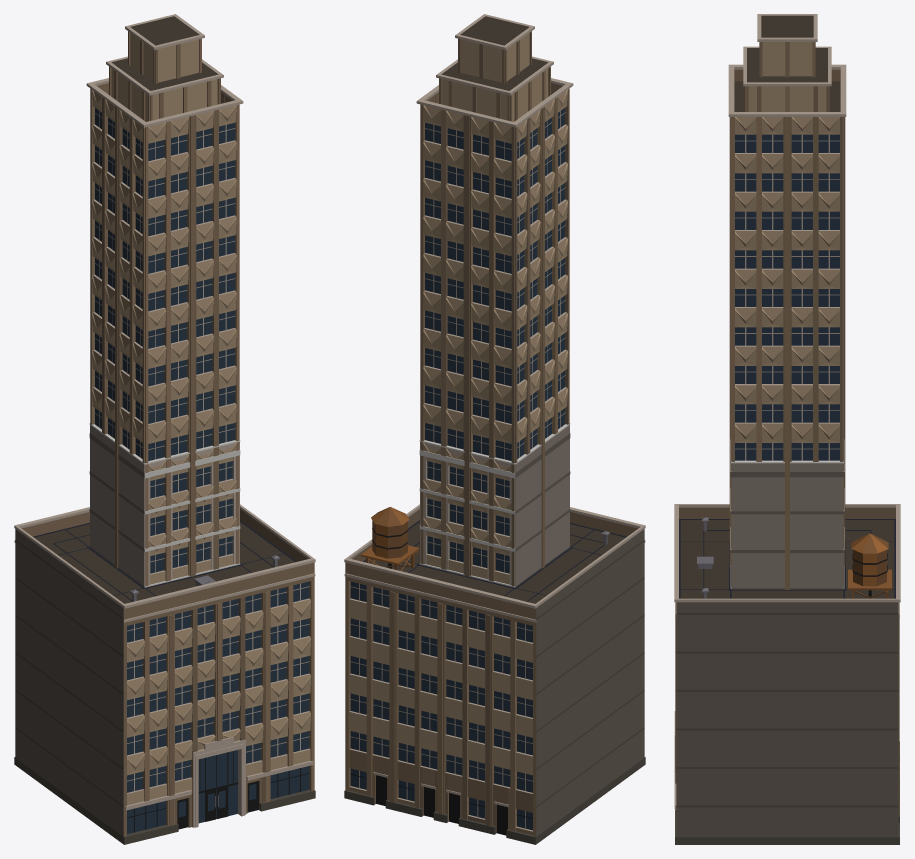
File: scenery.glb
3 views of the same model, side by side, from view 1: azimuth 30°, elevation 25°; view 2: azimuth 150°, elevation 25°; view 3: azimuth 270°, elevation 25° (orthographic). The views are drawn at different scales.
Parts seen in each view (by area): view 1: building2, building1; view 2: building2, building1; view 3: building2, building1.
Boxes of the visible parts, left/top/right/bottom form: building2: left=14, top=14, right=315, bottom=844; building1: left=89, top=423, right=240, bottom=587; building2: left=344, top=14, right=645, bottom=844; building1: left=419, top=423, right=570, bottom=587; building2: left=674, top=14, right=900, bottom=844; building1: left=730, top=439, right=844, bottom=589.
Size of the model in its own units: 16 by 60 by 16.
